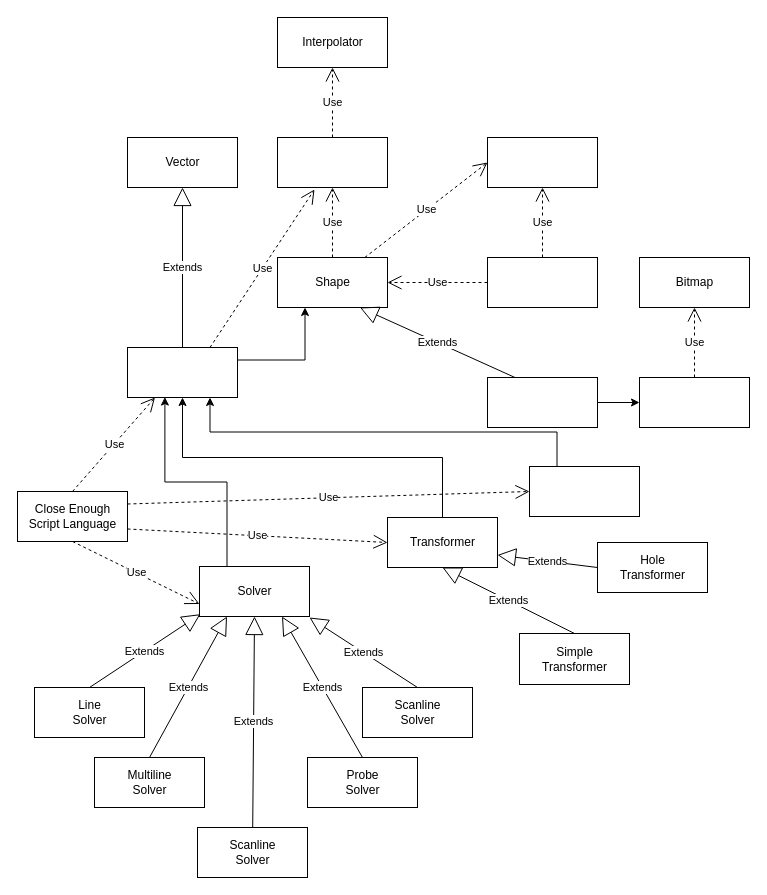
Image size: 767x895. Some labels were removed from this diagram. Here are the shapes that lost their labels. From the top down, the centre of each, then its label:
pixel 332 162: Parser
pixel 542 162: Matrix
pixel 542 282: Outer
pixel 182 372: Layout
pixel 542 402: QuadTree
pixel 694 402: Inner QuadTree
pixel 584 491: Merger
